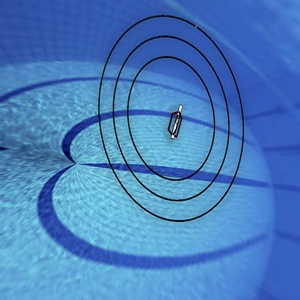circle: (89, 6, 249, 233)
submarine: (155, 93, 192, 148)
